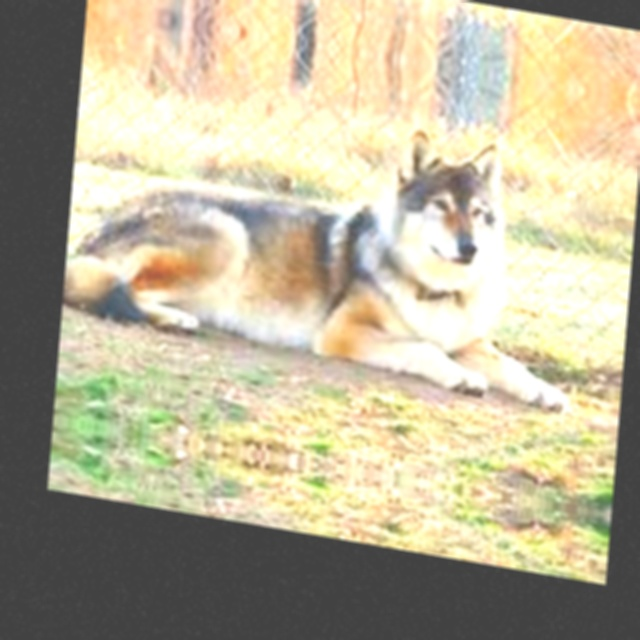dog: (74, 59, 585, 476), (66, 453, 553, 575), (109, 0, 595, 41)
